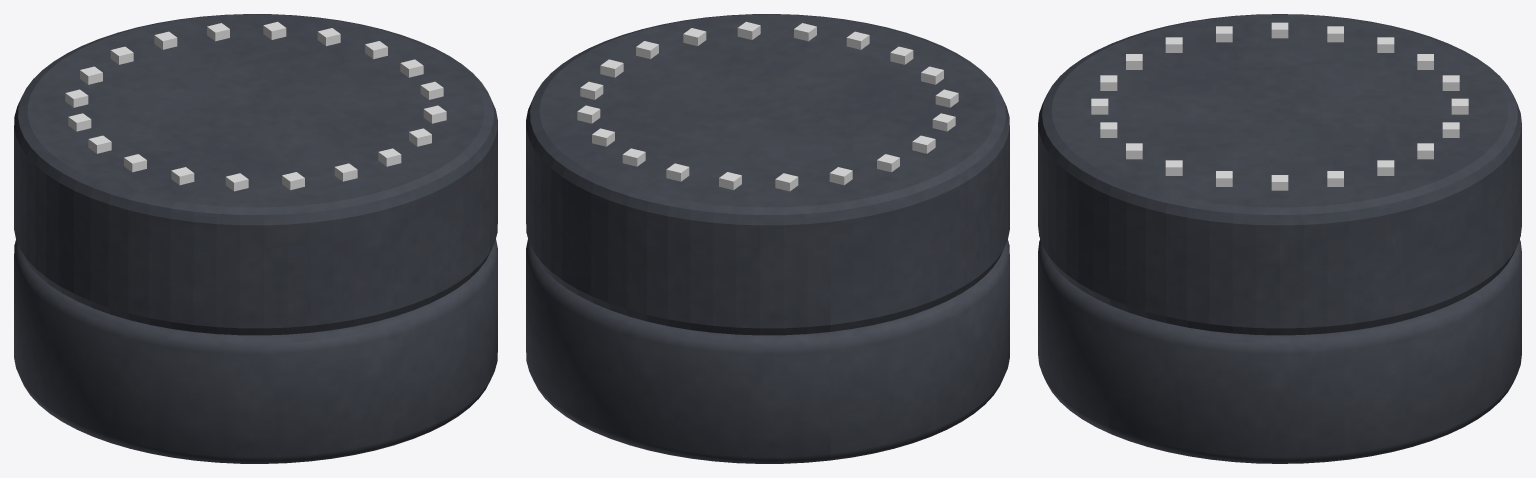
The picture shows the model from 3 angles, left to right: view 1: azimuth 30°, elevation 25°; view 2: azimuth 150°, elevation 25°; view 3: azimuth 270°, elevation 25°; orthographic projection.
Parts seen in each view (by area): view 1: teil1, teil2; view 2: teil1, teil2; view 3: teil1, teil2.
Boxes of the visible parts, <box> form: teil1: <box>14,14,497,335</box>; teil2: <box>14,239,497,463</box>; teil1: <box>526,14,1009,335</box>; teil2: <box>526,239,1009,463</box>; teil1: <box>1038,14,1521,335</box>; teil2: <box>1038,239,1521,463</box>.
Size of the model in its own units: 0.043 by 0.0259 by 0.043.
Materials: 2 (2 with a texture image).
